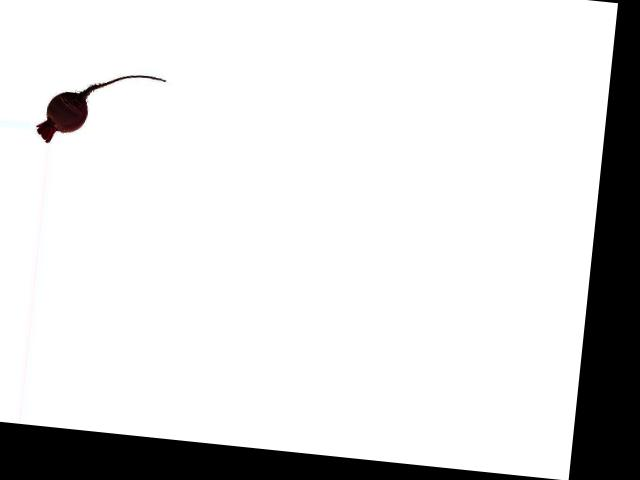beet: (36, 64, 167, 154)
